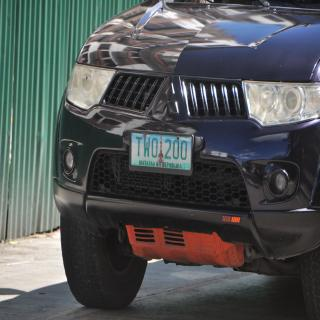license: (130, 132, 194, 176)
